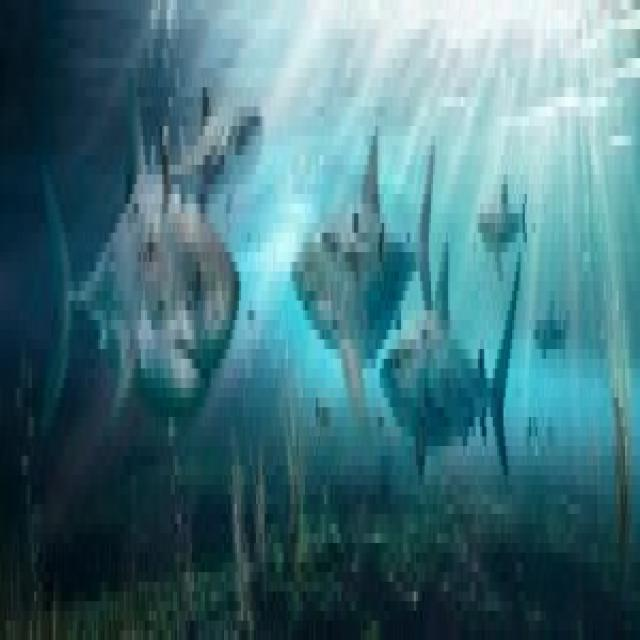Shark: (24, 186, 240, 468), (289, 112, 437, 442), (382, 294, 522, 502), (162, 69, 267, 174), (474, 160, 536, 271), (534, 300, 574, 368)
